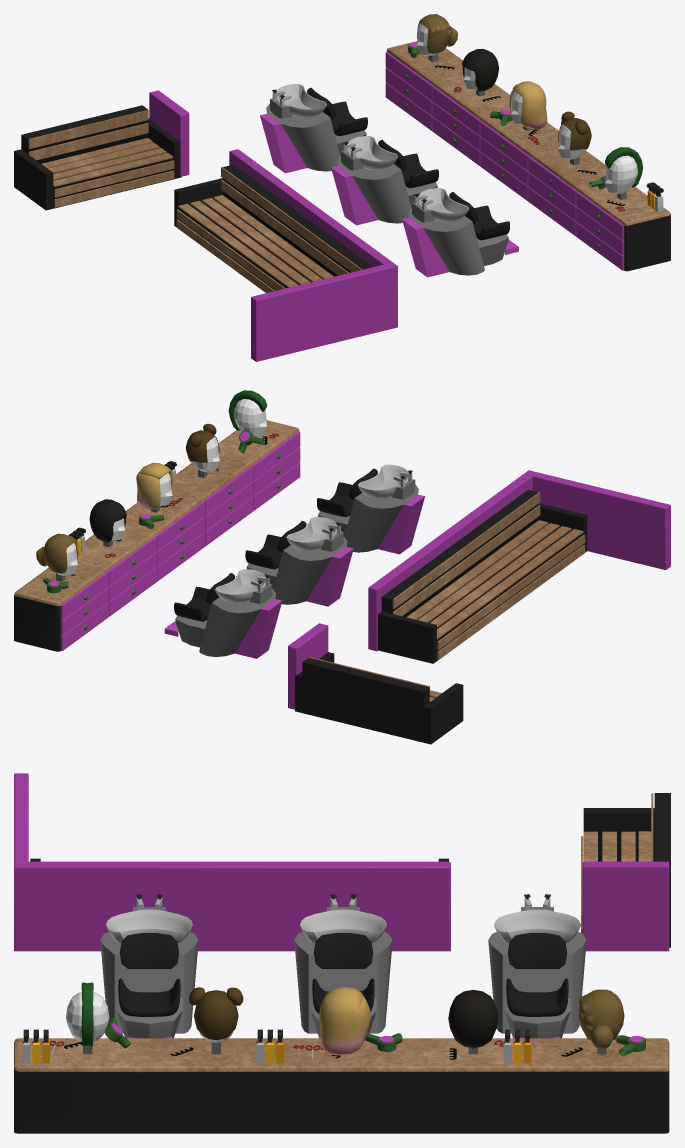
The model's file is Salon Tile.fbx.
3 renders of one model, top to bottom at view 1: azimuth 30°, elevation 25°; view 2: azimuth 150°, elevation 25°; view 3: azimuth 270°, elevation 25°, orthographic. The views are drawn at different scales.
Visible parts, largest first — view 1: Cube.224; view 2: Cube.224; view 3: Cube.224.
Boxes of the visible parts, box(x1,y1,x2,y2) form: Cube.224: box(14, 14, 670, 361); Cube.224: box(14, 390, 670, 744); Cube.224: box(14, 773, 670, 1133).
Bounding box in the file's own units: 355 × 80.33 × 355.
Materials: 1 (1 with a texture image).
